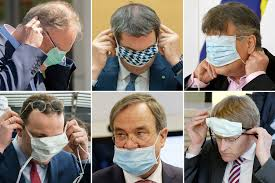mask_weared_incorrect: (114, 119, 157, 172), (204, 34, 244, 79), (29, 118, 65, 167), (121, 38, 159, 77), (212, 123, 245, 162), (45, 30, 73, 69)
